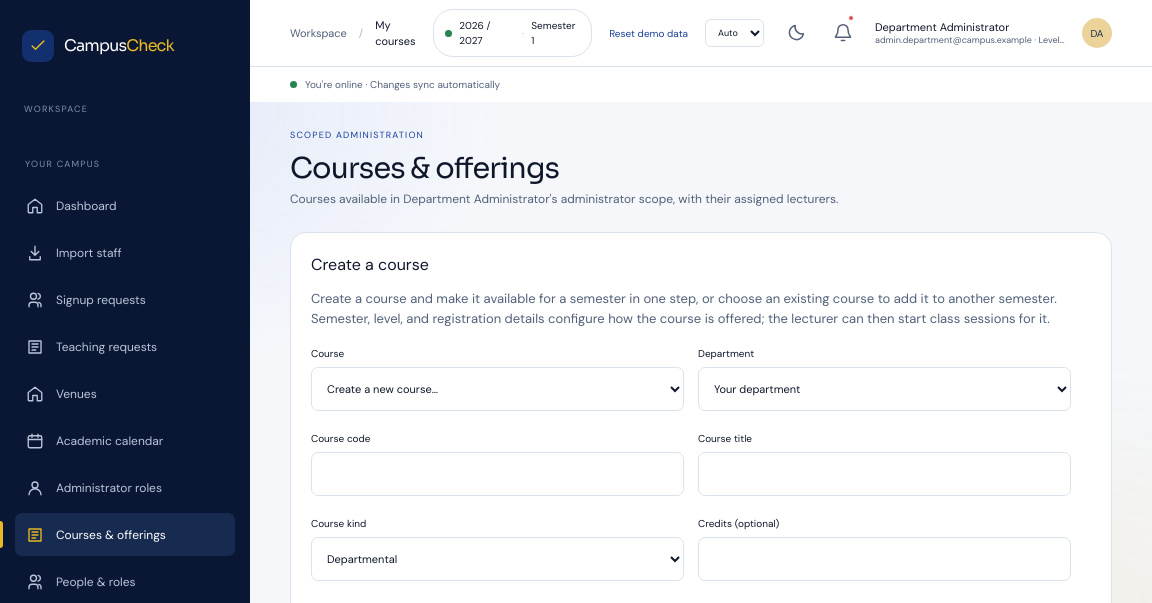
Test: Campus Attendance screens › blocks deleting a course that still has offerings
The width and height of the screenshot is (1152, 603).
Expected: the heading "Courses & offerings" is shown, [290,150,559,186]
Select "ENG 301 · Engineering Mathematics III" in the dropdown labelled "Course" at (498,389), box [311,367,684,411]
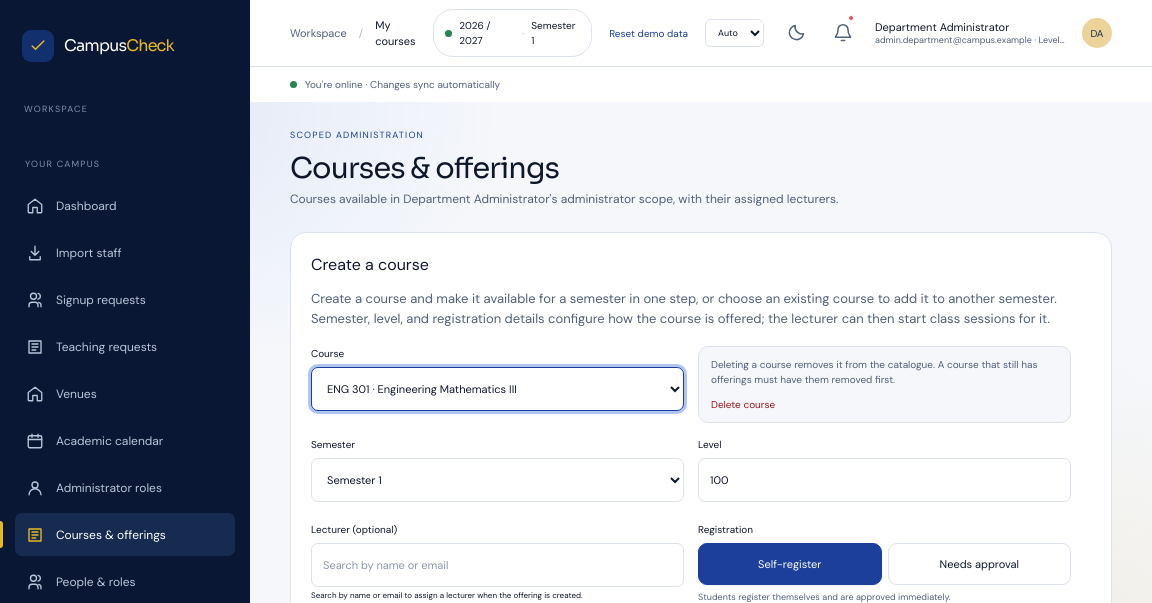
Click the button "Delete course" at (743,405), box [711,397,775,412]
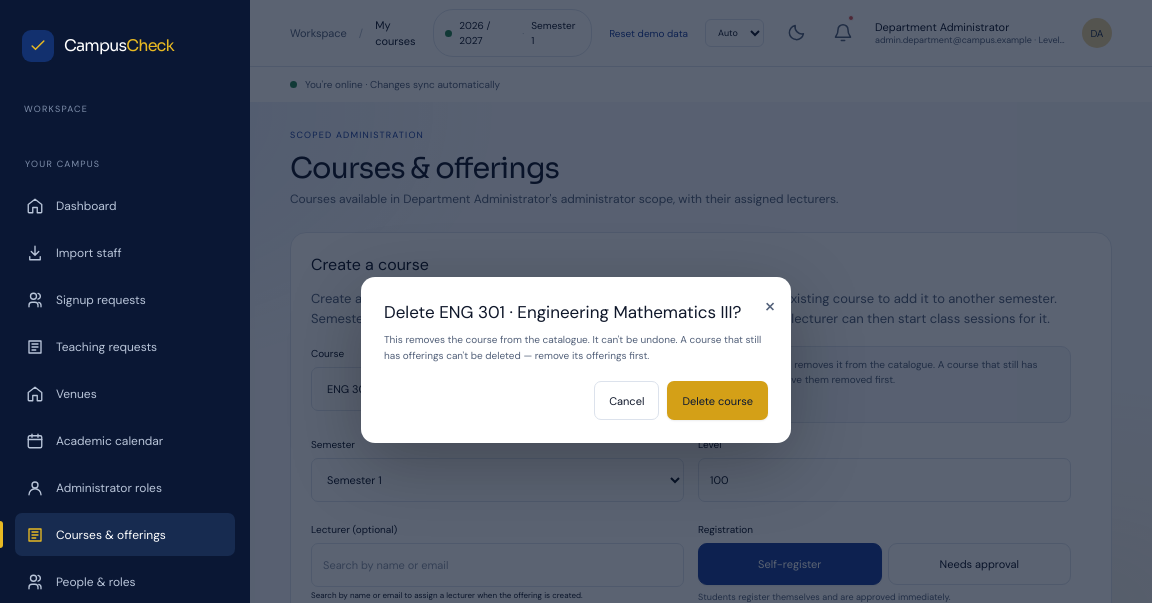
Click the button "Delete course" at (718,401), box [667,381,768,420]
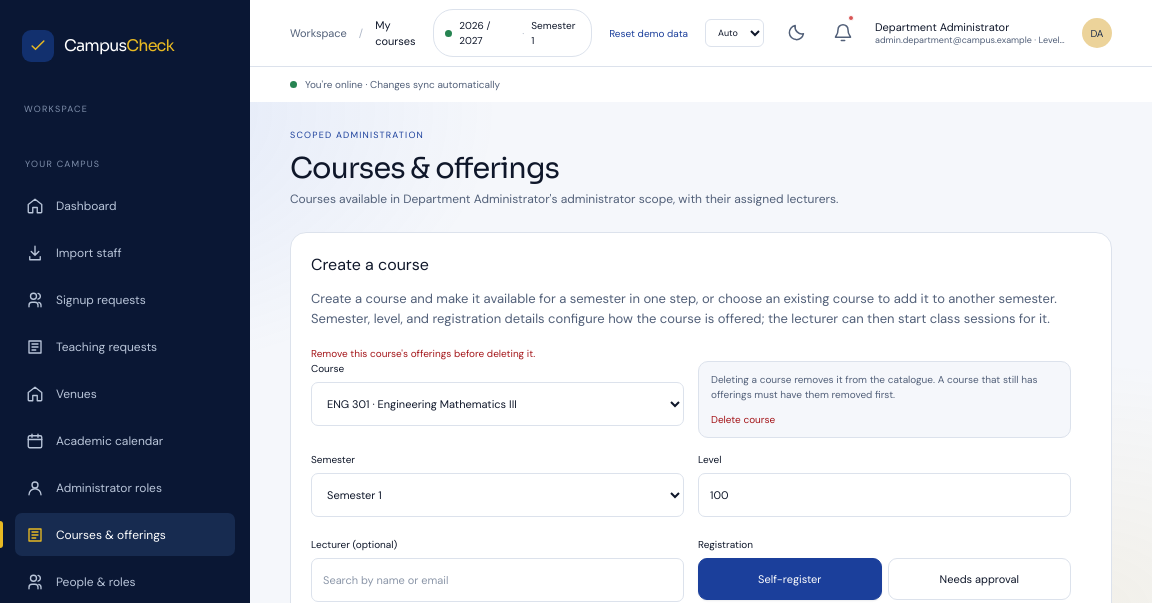
Result: the text "Remove this course's offerings before deleting it." is shown at [311,347,535,360]
